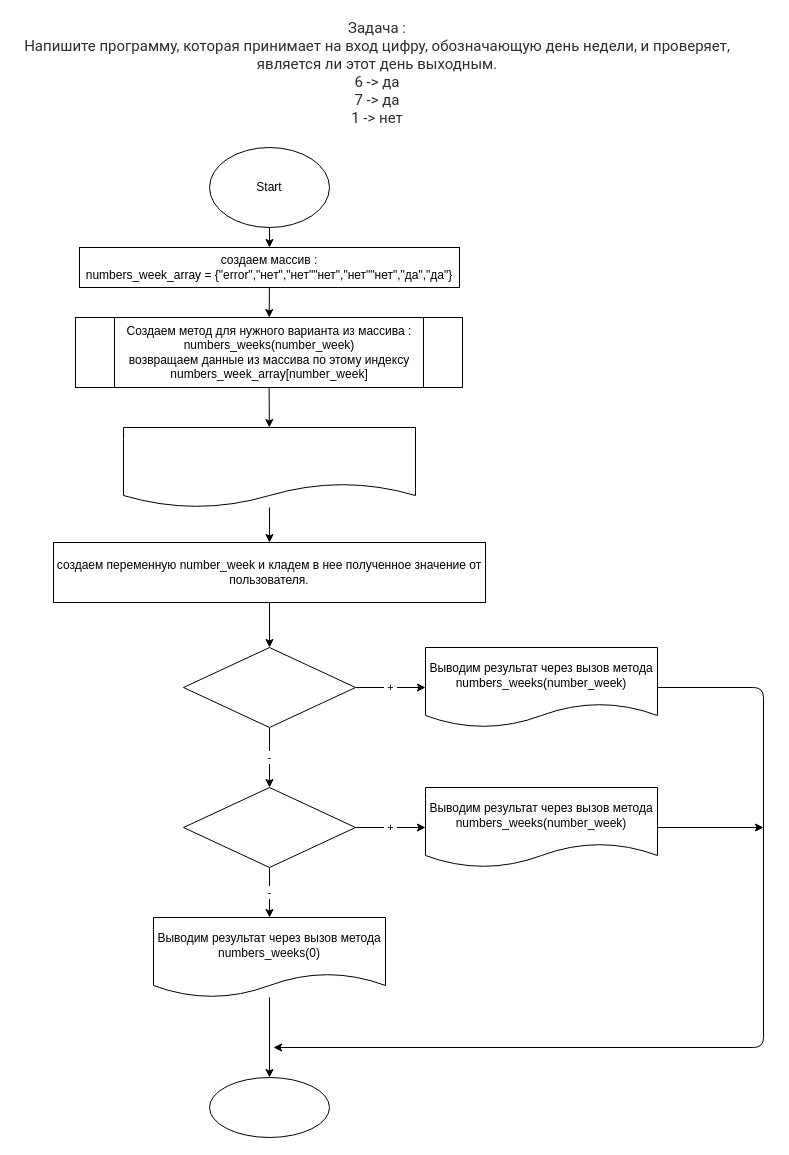
Image size: 789x1155. Some labels were removed from this diagram. The shapes that lost their labels are listed below. From the top down, each one's centre as x and y in pixels, then its label:
the point at 269,467: выводим в консоли пояснение для пользователя : "Введите номер дня недели - "
the point at 269,687: 6<=number_week<=7
the point at 269,827: 1<=number_week<=5
the point at 269,1107: and
